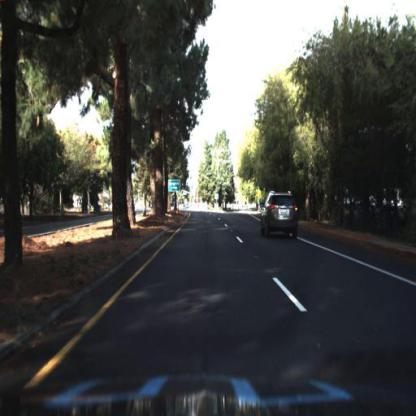car: (256, 191, 297, 241)
